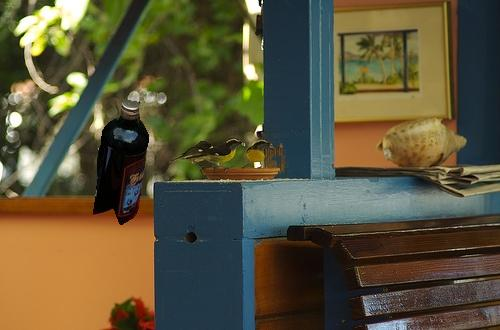tampered: (94, 100, 149, 225)
